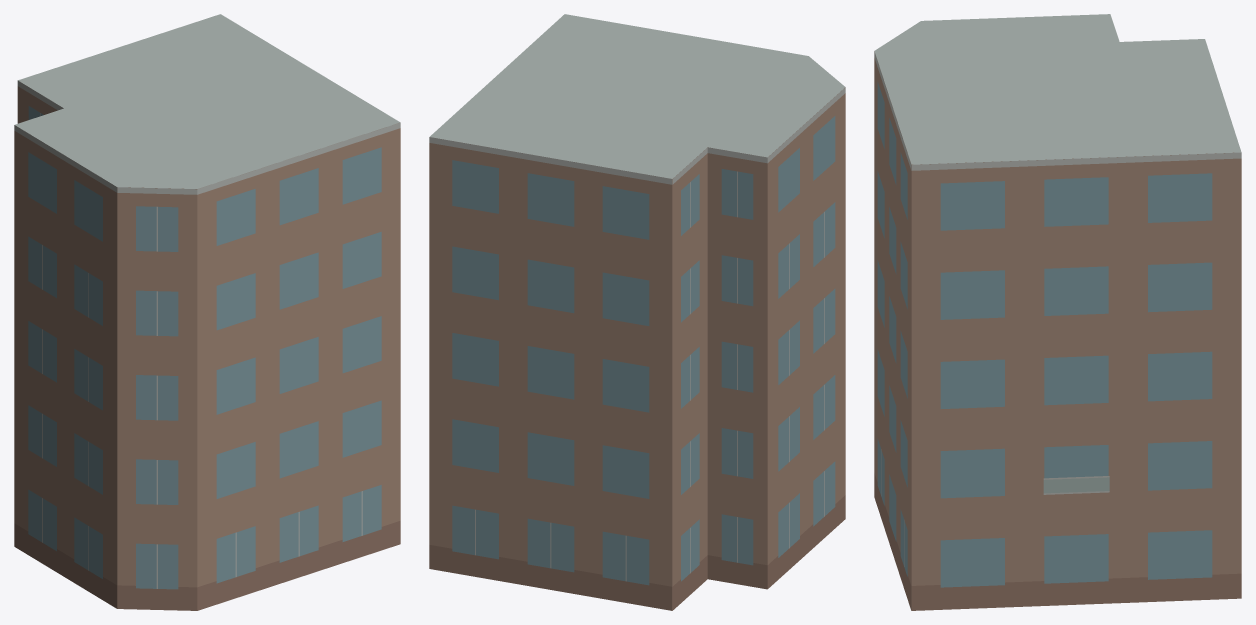
File: survey-upis-32716274.glb
The picture shows the model from 3 angles, left to right: view 1: azimuth 30°, elevation 25°; view 2: azimuth 150°, elevation 25°; view 3: azimuth 270°, elevation 25°; orthographic projection. The views are drawn at different scales.
Parts seen in each view (by area): view 1: survey-upis-32716274.tmp; view 2: survey-upis-32716274.tmp; view 3: survey-upis-32716274.tmp.
Part boxes in pixels (left/top/right/bottom): survey-upis-32716274.tmp: left=14, top=14, right=400, bottom=610; survey-upis-32716274.tmp: left=429, top=14, right=845, bottom=610; survey-upis-32716274.tmp: left=874, top=14, right=1241, bottom=610.
Size of the model in its own units: 13.06 by 18 by 13.44.
